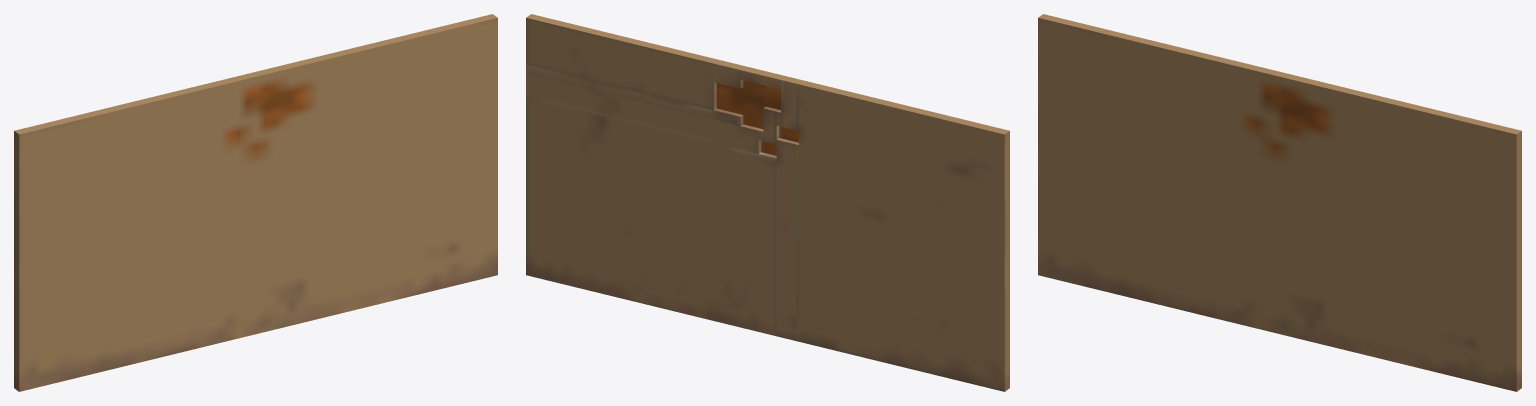
The model's file is WallRightSideMinimallyDamaged_01.obj.
3 views of the same model, side by side, from view 1: azimuth 30°, elevation 25°; view 2: azimuth 150°, elevation 25°; view 3: azimuth 330°, elevation 25° (orthographic).
Visible parts, largest first — view 1: WallRightSideMinimallyDamaged_01; view 2: WallRightSideMinimallyDamaged_01; view 3: WallRightSideMinimallyDamaged_01.
Boxes of the visible parts, bbox=[...] form: WallRightSideMinimallyDamaged_01: bbox=[14, 14, 497, 391]; WallRightSideMinimallyDamaged_01: bbox=[526, 14, 1009, 391]; WallRightSideMinimallyDamaged_01: bbox=[1038, 14, 1521, 391].
Bounding box in the file's own units: 5.35 × 2.75 × 0.1.
